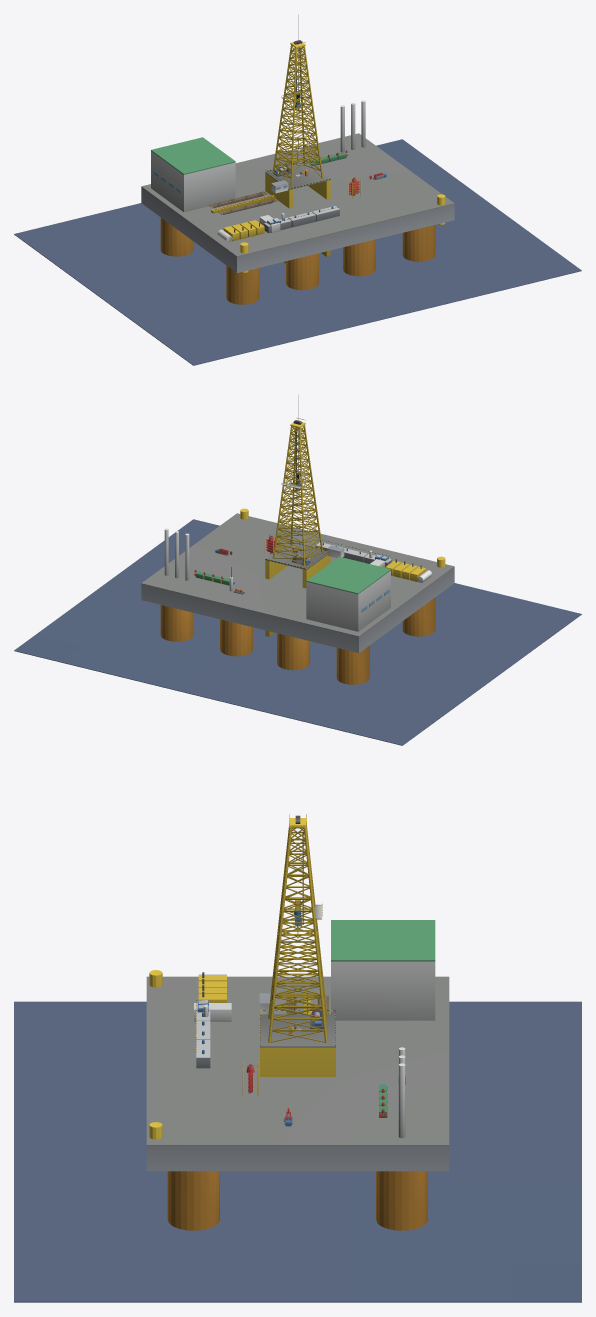
File: semi_high.glb
3 renders of one model, top to bottom at view 1: azimuth 30°, elevation 25°; view 2: azimuth 150°, elevation 25°; view 3: azimuth 270°, elevation 25°, orthographic. The views are drawn at different scales.
Parts seen in each view (by area): view 1: hull__sea, hull__hull, mast__mast, mast__floor, mudtanks__tanks, mast__substructure, generators__gensets, pipehandling__racker; view 2: hull__sea, hull__hull, mast__mast, mast__floor, mast__substructure, generators__gensets, mudtanks__tanks; view 3: hull__sea, hull__hull, mast__mast, mast__substructure, mast__floor, mudtanks__tanks, generators__gensets.
Part boxes in pixels (<box>): hull__sea: <box>14,139,581,365</box>; hull__hull: <box>141,100,454,304</box>; mast__mast: <box>272,45,323,186</box>; mast__floor: <box>265,161,330,189</box>; mudtanks__tanks: <box>264,206,339,233</box>; mast__substructure: <box>265,173,330,263</box>; generators__gensets: <box>223,220,264,241</box>; pipehandling__racker: <box>209,191,277,214</box>; hull__sea: <box>14,519,581,745</box>; hull__hull: <box>141,508,454,684</box>; mast__mast: <box>272,425,323,566</box>; mast__floor: <box>265,541,327,569</box>; mast__substructure: <box>265,555,330,643</box>; generators__gensets: <box>385,559,426,581</box>; mudtanks__tanks: <box>315,540,391,567</box>; hull__sea: <box>14,1001,581,1302</box>; hull__hull: <box>146,920,449,1230</box>; mast__mast: <box>268,827,327,1042</box>; mast__substructure: <box>260,1047,335,1076</box>; mast__floor: <box>260,1010,335,1047</box>; mudtanks__tanks: <box>196,999,210,1068</box>; generators__gensets: <box>198,972,226,1002</box>.
Size of the model in its own units: 150 by 99.76 by 120.
